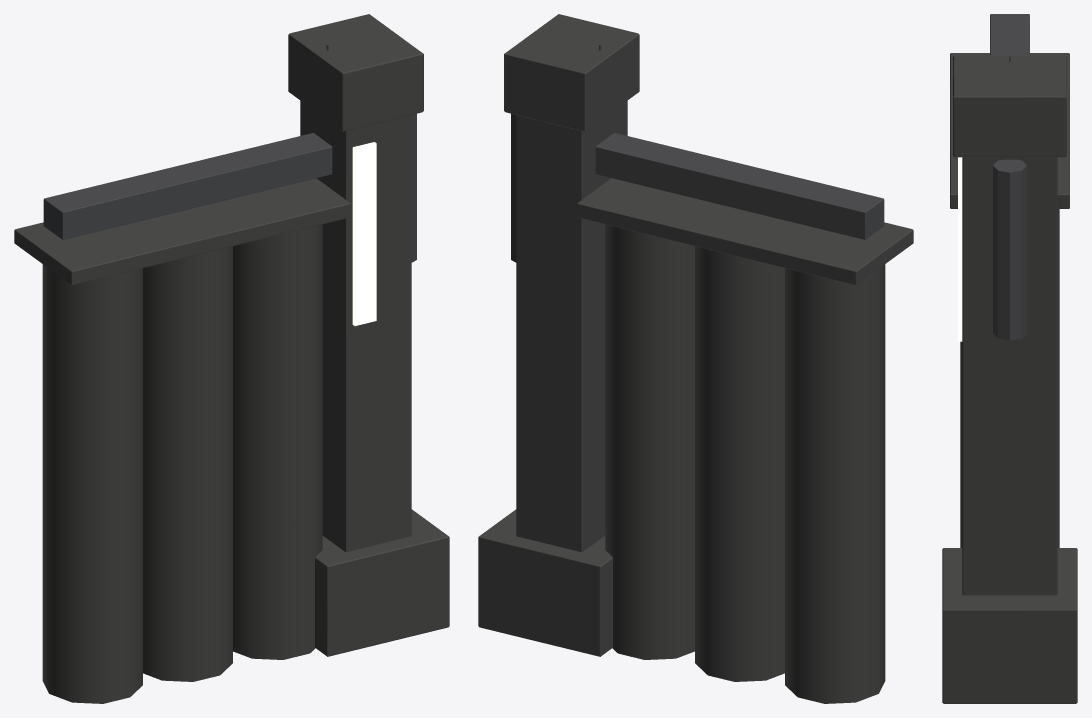
File: landmark_silo.glb
The picture shows the model from 3 angles, left to right: view 1: azimuth 30°, elevation 25°; view 2: azimuth 150°, elevation 25°; view 3: azimuth 270°, elevation 25°; orthographic projection. The views are drawn at different scales.
Parts seen in each view (by area): view 1: SIL_Cellule_0, SIL_Cellule_1, SIL_Cellule_2, SIL_Tour, SIL_Dalle, SIL_Tremie, SIL_Galerie, SIL_Tete, SIL_Cage_Lit, SIL_Gaine; view 2: SIL_Cellule_0, SIL_Cellule_1, SIL_Tour, SIL_Cellule_2, SIL_Dalle, SIL_Tremie, SIL_Galerie, SIL_Tete, SIL_Gaine; view 3: SIL_Tour, SIL_Tremie, SIL_Tete, SIL_Gaine, SIL_Dalle, SIL_Galerie, SIL_Cellule_2, SIL_Cage_Lit.
Boxes of the visible parts, x1=… form: SIL_Cellule_0: x1=42, y1=264, x2=142, y2=703; SIL_Cellule_1: x1=143, y1=246, x2=232, y2=681; SIL_Cellule_2: x1=233, y1=224, x2=322, y2=659; SIL_Tour: x1=300, y1=100, x2=411, y2=551; SIL_Dalle: x1=14, y1=178, x2=350, y2=285; SIL_Tremie: x1=315, y1=509, x2=449, y2=656; SIL_Galerie: x1=43, y1=133, x2=332, y2=239; SIL_Tete: x1=288, y1=14, x2=423, y2=131; SIL_Cage_Lit: x1=352, y1=142, x2=376, y2=325; SIL_Gaine: x1=411, y1=113, x2=416, y2=262; SIL_Cellule_0: x1=785, y1=264, x2=885, y2=703; SIL_Cellule_1: x1=695, y1=246, x2=784, y2=681; SIL_Tour: x1=516, y1=100, x2=627, y2=551; SIL_Cellule_2: x1=605, y1=224, x2=694, y2=659; SIL_Dalle: x1=577, y1=178, x2=913, y2=285; SIL_Tremie: x1=478, y1=509, x2=612, y2=656; SIL_Galerie: x1=595, y1=133, x2=884, y2=239; SIL_Tete: x1=504, y1=14, x2=639, y2=131; SIL_Gaine: x1=511, y1=113, x2=516, y2=262; SIL_Tour: x1=962, y1=157, x2=1057, y2=595; SIL_Tremie: x1=942, y1=548, x2=1077, y2=703; SIL_Tete: x1=953, y1=55, x2=1066, y2=157; SIL_Gaine: x1=993, y1=159, x2=1026, y2=340; SIL_Dalle: x1=950, y1=53, x2=1069, y2=208; SIL_Galerie: x1=990, y1=14, x2=1029, y2=55; SIL_Cellule_2: x1=960, y1=209, x2=1059, y2=547; SIL_Cage_Lit: x1=958, y1=157, x2=962, y2=341.
Bounding box in the file's own units: 14.6 × 21.6 × 4.4.
